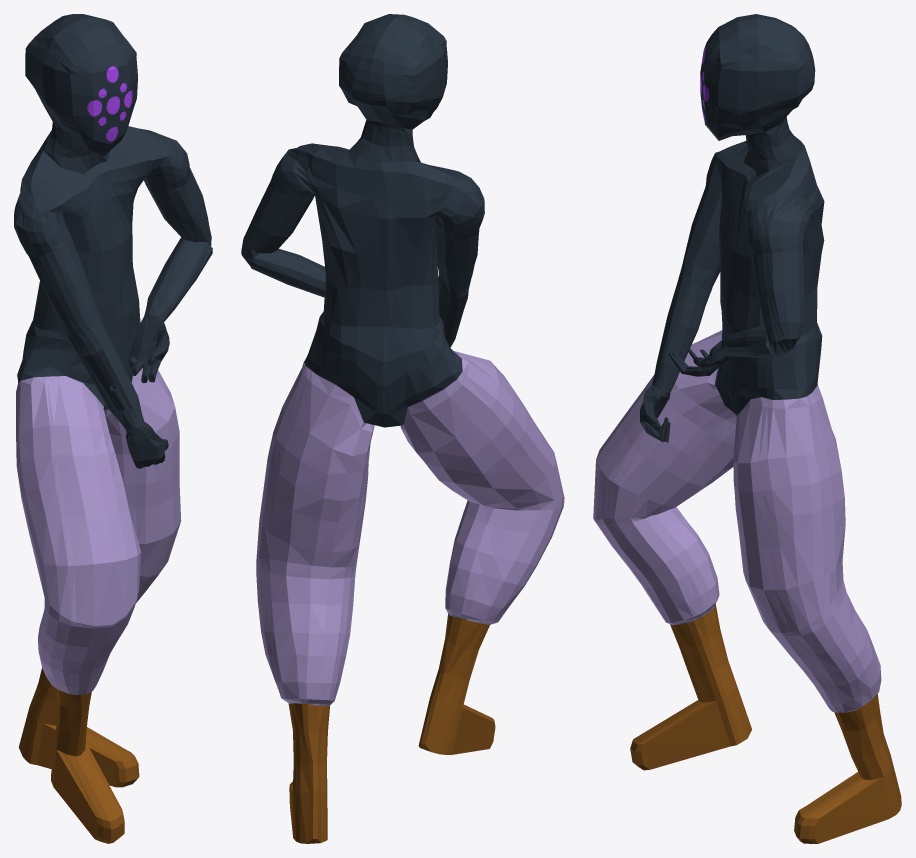
File: Oracle_WB_000023.obj
3 renders of one model, left to right at view 1: azimuth 30°, elevation 25°; view 2: azimuth 150°, elevation 25°; view 3: azimuth 270°, elevation 25°, orthographic.
Parts seen in each view (by area): view 1: Cube; view 2: Cube; view 3: Cube.
Boxes of the visible parts, box(x1,y1,x2,y2) form: Cube: box(14, 14, 212, 843); Cube: box(241, 14, 564, 843); Cube: box(593, 14, 901, 843).
Bounding box in the file's own units: 1.22 × 3.85 × 1.36.
